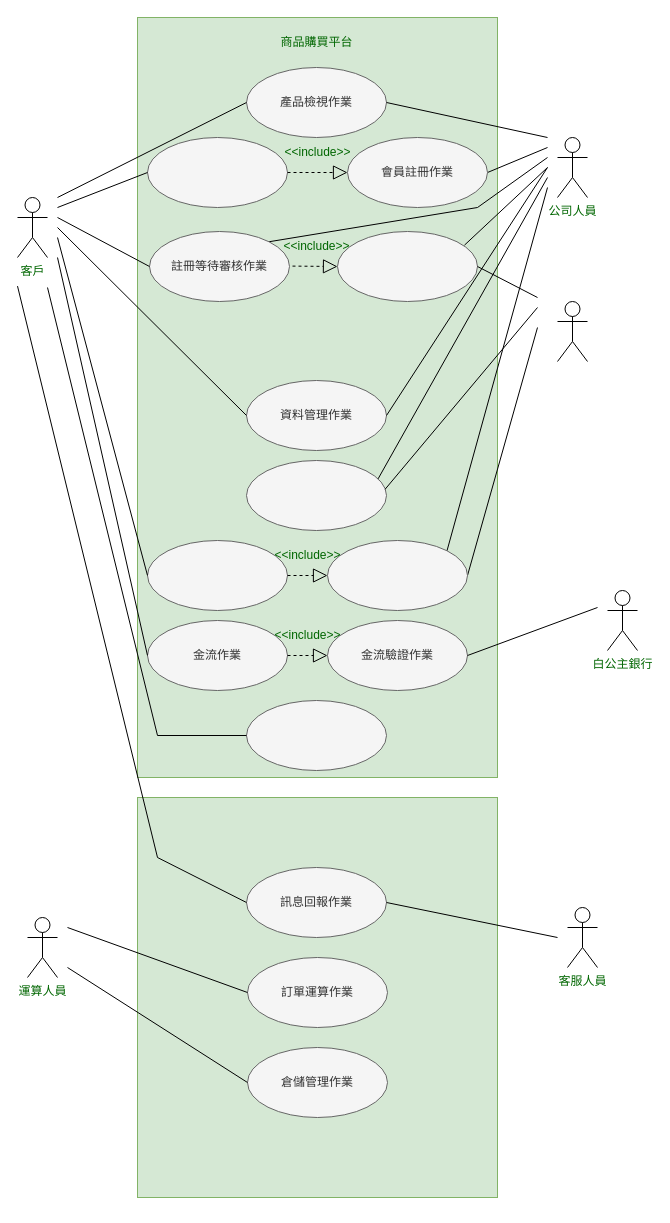
Some shapes in this 670 by 1223 pixel diagram are drawn without their labels. Here are the shapes that lost their labels. From the top down, the centre of each, then its label:
point (217, 172): 一般會員註冊作業
point (407, 266): 註冊審核作業
point (572, 331): 系統維護人員
point (316, 495): 產品管理作業
point (217, 575): 訂單管理作業
point (397, 575): 修改訂單狀態作業
point (316, 735): 檢視已完成 訂單作業
